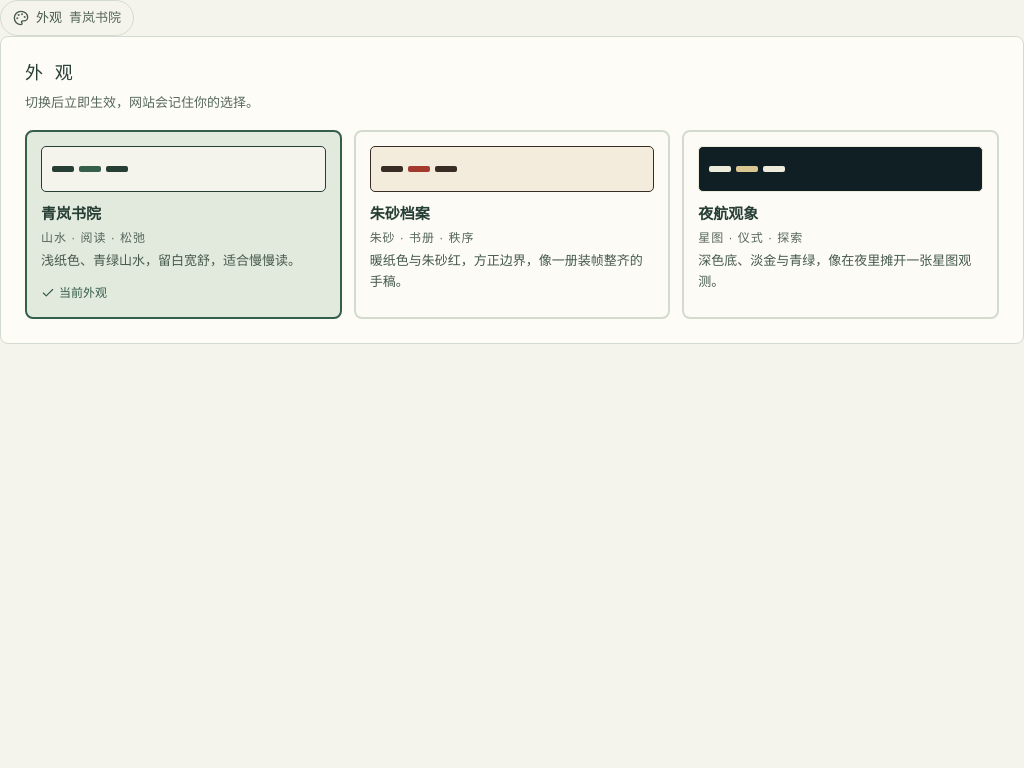
Test: 外观选择 › 顶栏入口与设置页共用同一状态：设置页选中的，顶栏同步
Click the radio button labelled "朱砂档案 朱砂 · 书册 · 秩序 暖纸色与朱砂红，方正边界，像一册装帧整齐的手稿。" at [512, 169], box [354,130,670,319]
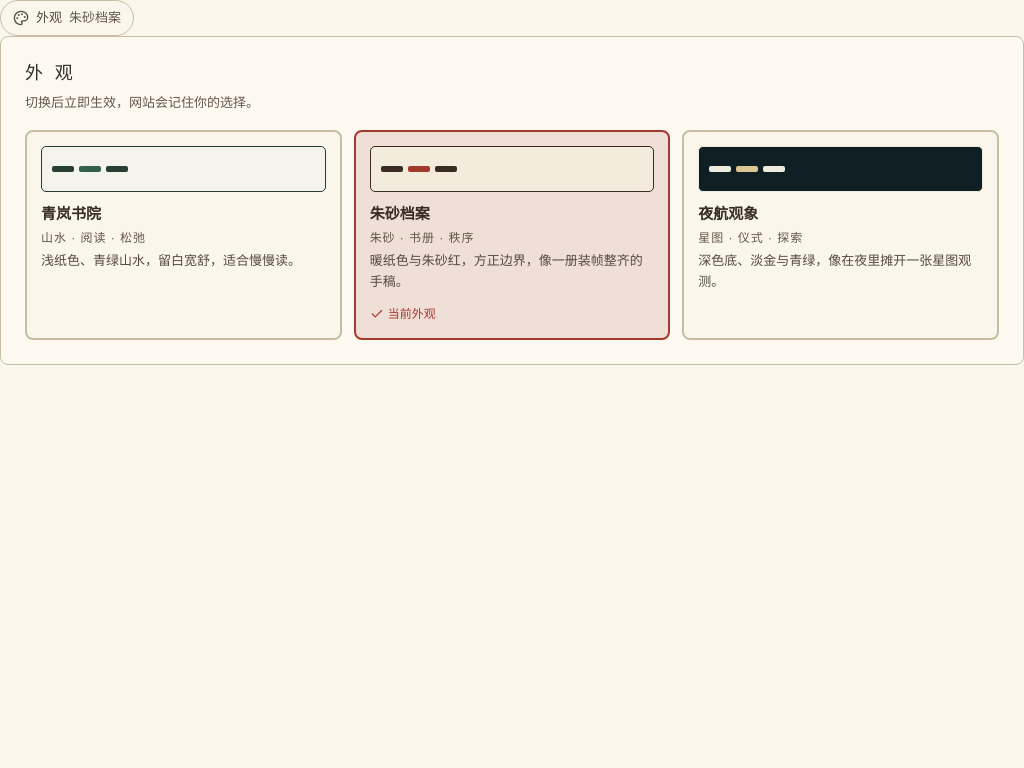
Expected: the button with aria-label "外观：朱砂档案" is shown, [0,0,134,36]
